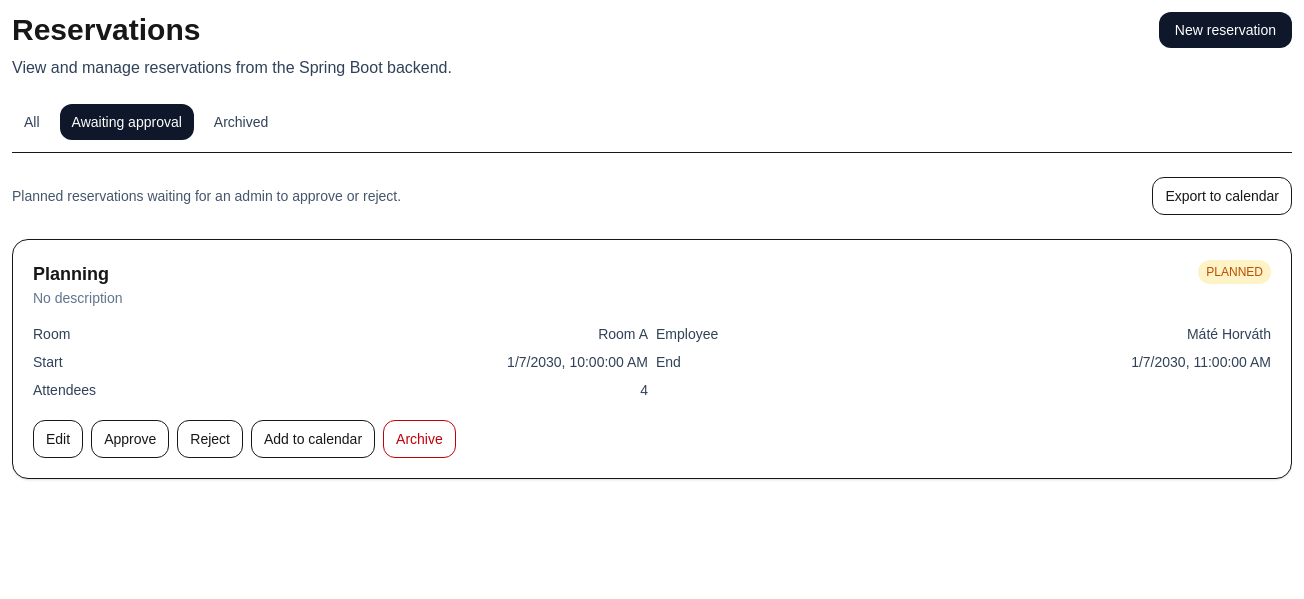
it: ReservationsPage › shows the backend's reason when an action is rejected
Expected: the heading "Planning" is shown, x1=33 y1=264 x2=109 y2=284
Click the button "Approve" at {"x": 130, "y": 439}, box x1=91 y1=420 x2=169 y2=458
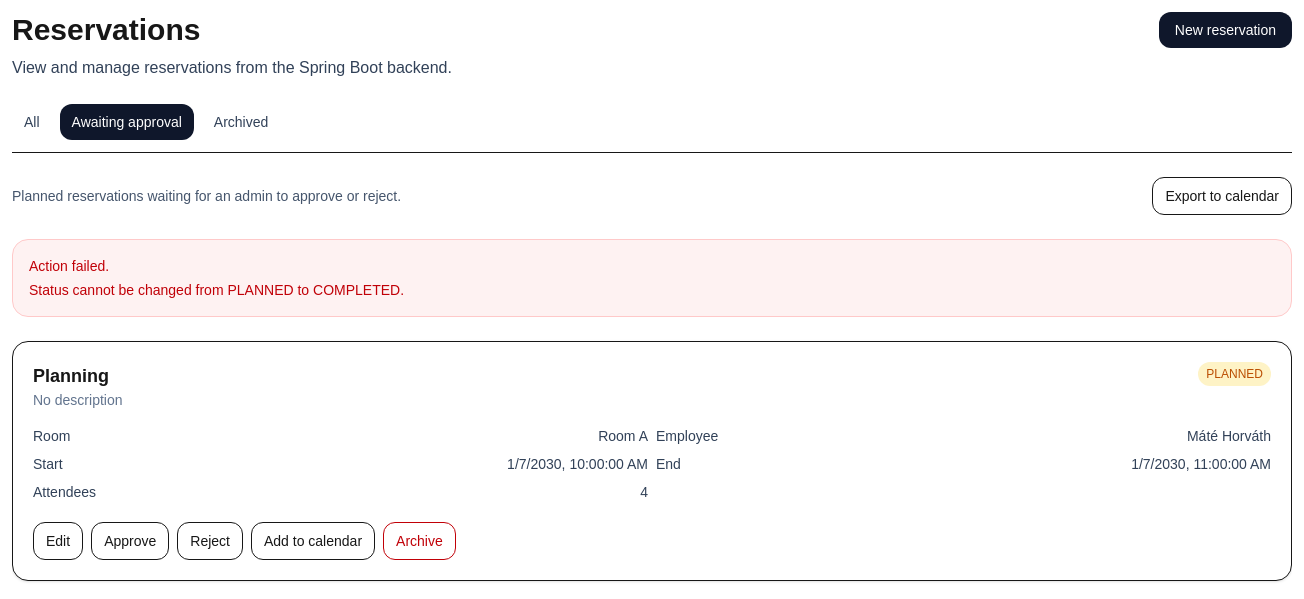
Expected: the message shows "Status cannot be changed from PLANNED to COMPLETED.", x1=29 y1=282 x2=404 y2=298
